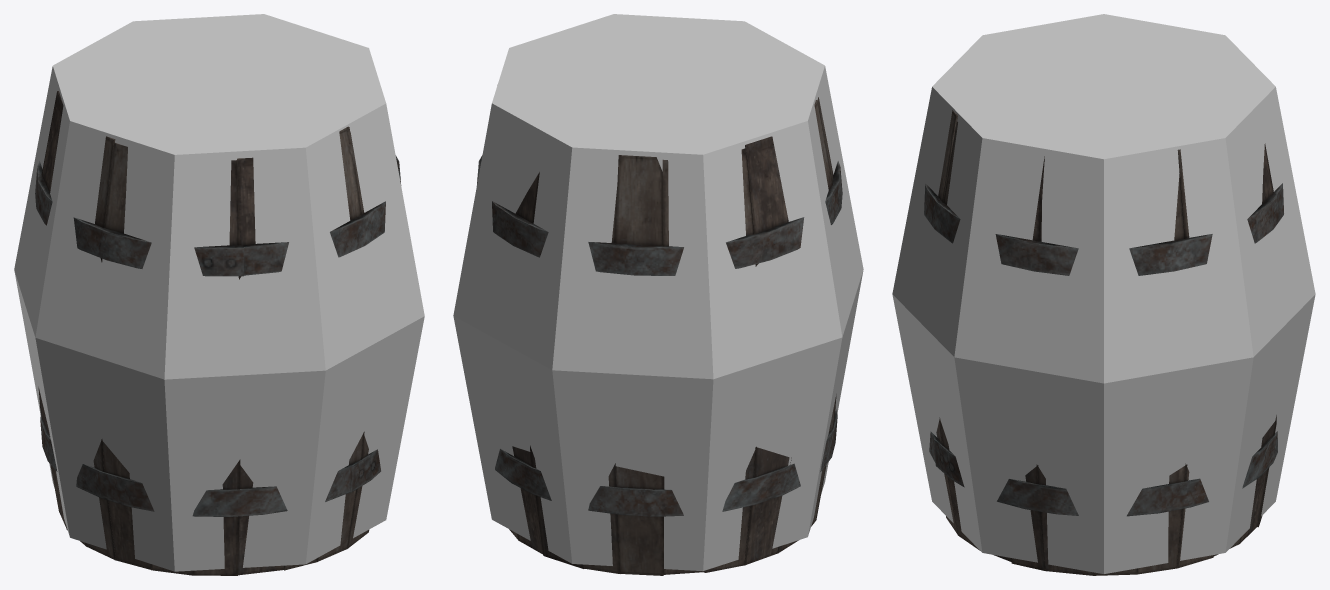
The model's file is SM_Barril.fbx.
3 renders of one model, left to right at view 1: azimuth 30°, elevation 25°; view 2: azimuth 150°, elevation 25°; view 3: azimuth 270°, elevation 25°, orthographic.
Parts seen in each view (by area): view 1: SM_Barril_ConvexHulls, SM_Barril; view 2: SM_Barril_ConvexHulls, SM_Barril; view 3: SM_Barril_ConvexHulls, SM_Barril.
Part boxes in pixels (x1,y1,x2,y2): SM_Barril_ConvexHulls: [14, 14, 424, 571]; SM_Barril: [35, 91, 401, 575]; SM_Barril_ConvexHulls: [453, 14, 863, 571]; SM_Barril: [477, 97, 842, 575]; SM_Barril_ConvexHulls: [892, 14, 1315, 573]; SM_Barril: [924, 110, 1283, 575].
Size of the model in its own units: 83.13 by 83.13 by 91.58.
